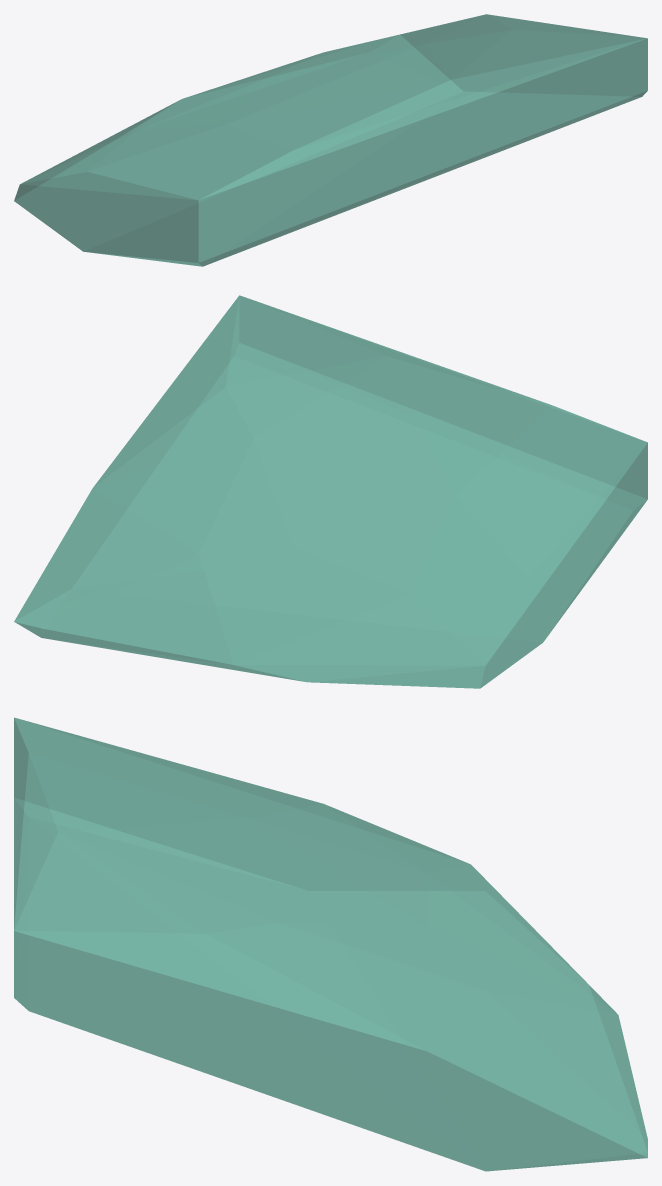
3 renders of one model, top to bottom at view 1: azimuth 30°, elevation 25°; view 2: azimuth 150°, elevation 25°; view 3: azimuth 270°, elevation 25°, orthographic. The views are drawn at different scales.
Visible parts, largest first — view 1: Shape_IndexedFaceSet.033_Shape_IndexedFaceSet.631; view 2: Shape_IndexedFaceSet.033_Shape_IndexedFaceSet.631; view 3: Shape_IndexedFaceSet.033_Shape_IndexedFaceSet.631.
Boxes of the visible parts, left/top/right/bottom form: Shape_IndexedFaceSet.033_Shape_IndexedFaceSet.631: left=14, top=14, right=647, bottom=266; Shape_IndexedFaceSet.033_Shape_IndexedFaceSet.631: left=14, top=295, right=647, bottom=688; Shape_IndexedFaceSet.033_Shape_IndexedFaceSet.631: left=14, top=717, right=647, bottom=1171.
Bounding box in the file's own units: 0.0838 × 0.0335 × 0.0801.
